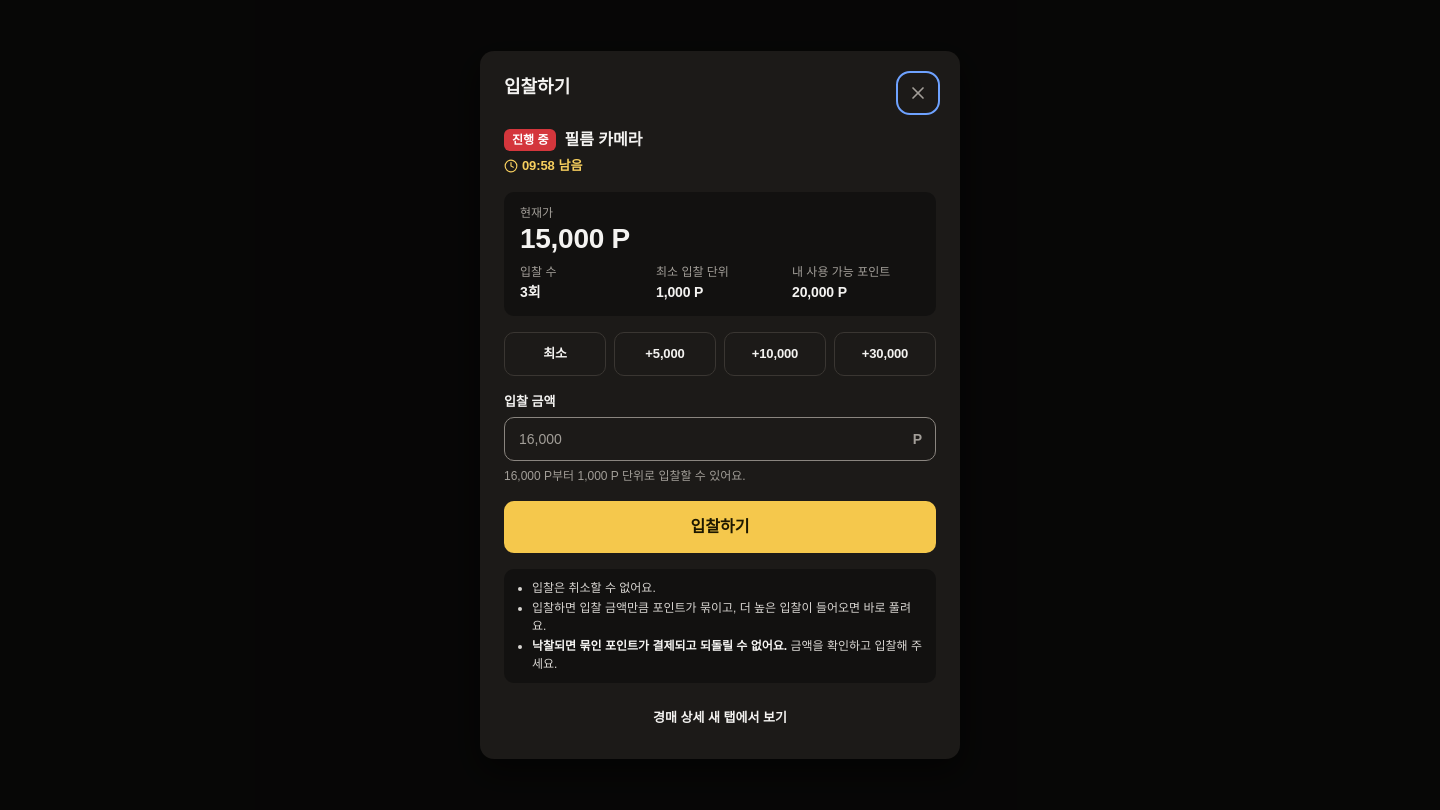
BidDialog › 입찰이 거절되면(그 사이 현재가가 오름) 이유를 보여 준다
The width and height of the screenshot is (1440, 810).
Step 1. Click the button "최소" → (555, 354), box [504, 332, 606, 376]
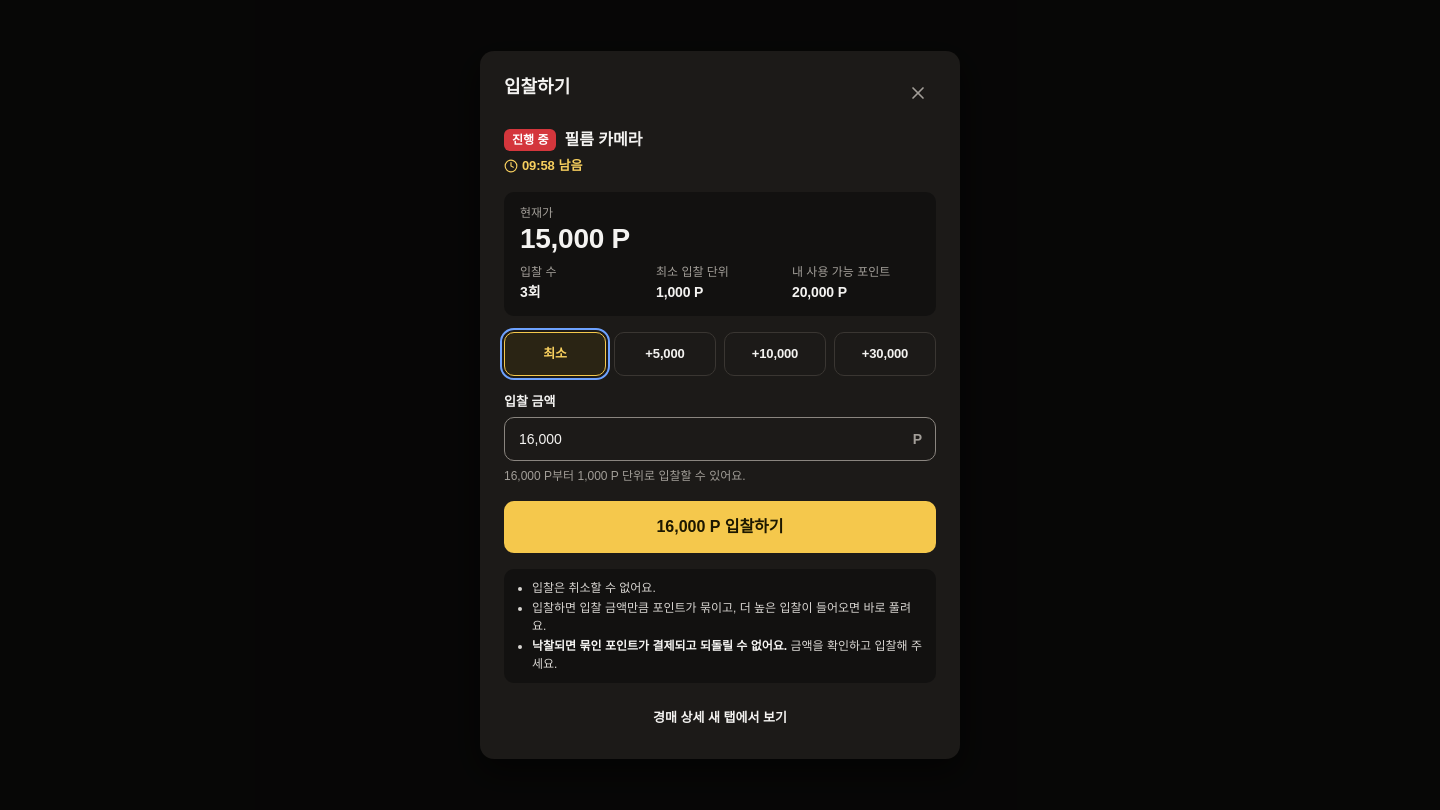
Step 2. Click the button "16,000 P 입찰하기" → (720, 527), box [504, 501, 936, 553]
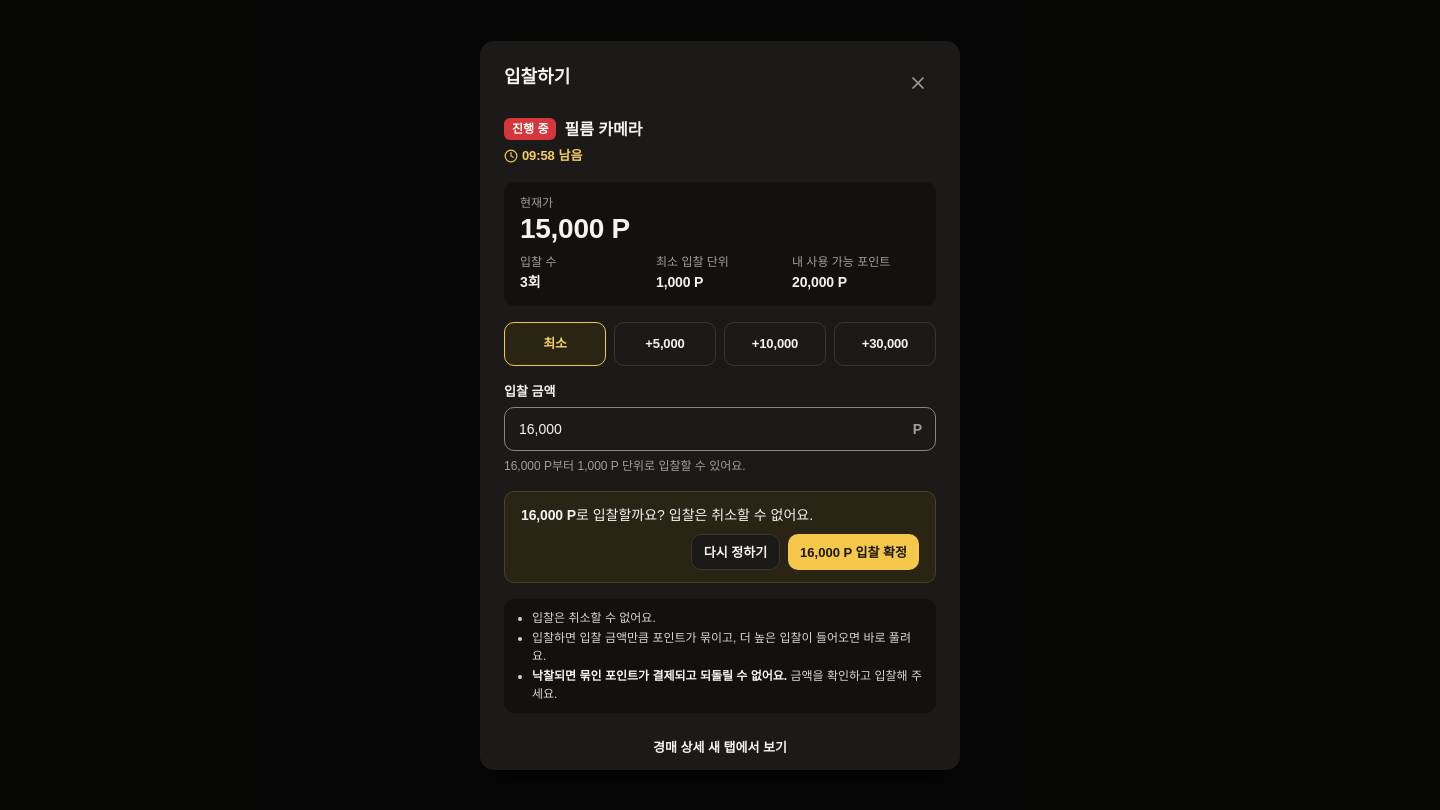
Step 3. Click the button "16,000 P 입찰 확정" → (854, 552), box [788, 534, 919, 570]
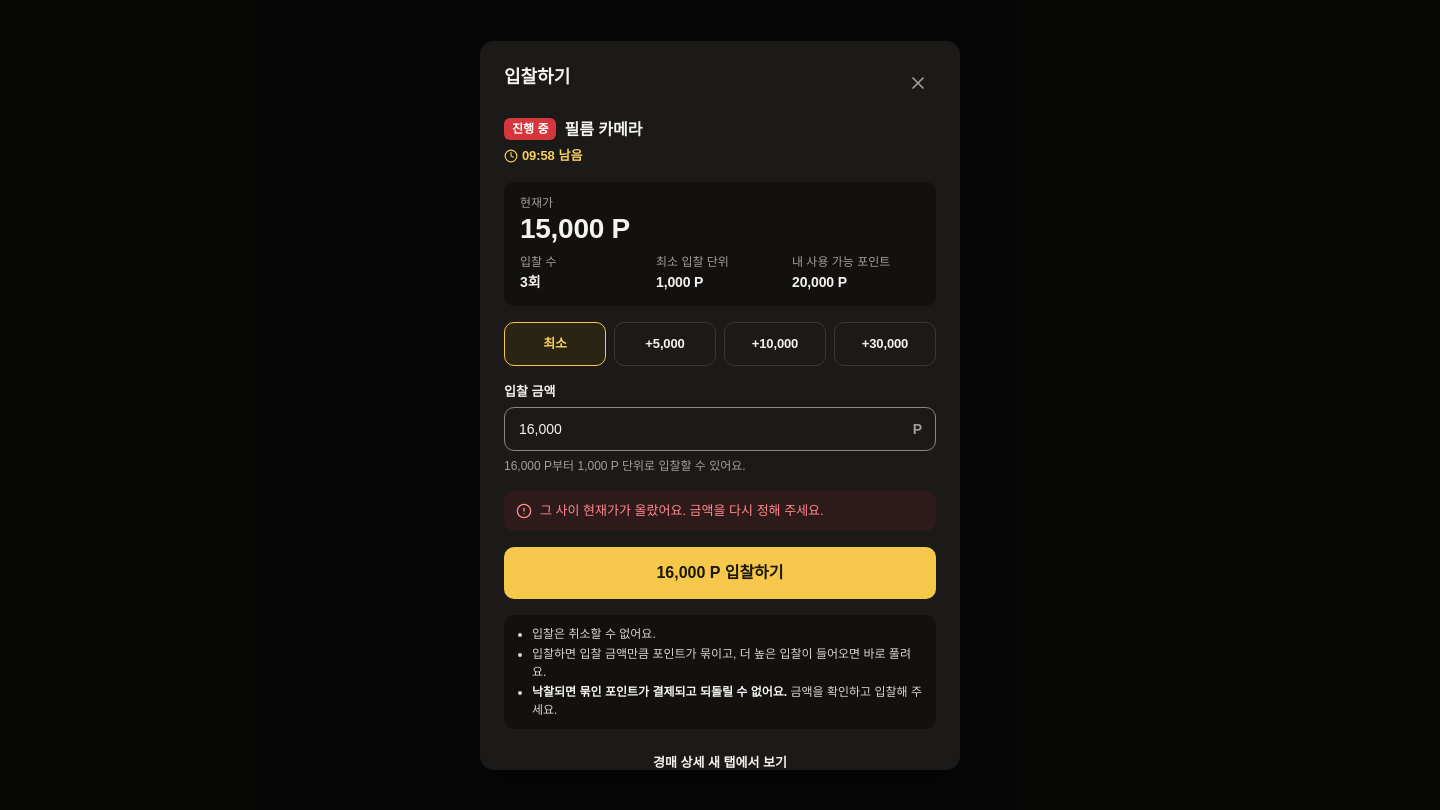
Expected: the text "그 사이 현재가가 올랐어요. 금액을 다시 정해 주세요." is shown, [540, 501, 824, 521]
# 금액을 다시 정하면 지난 입찰의 오류는 지운다.
Step 4. Click the button "+10,000" → (775, 344), box [724, 322, 826, 366]
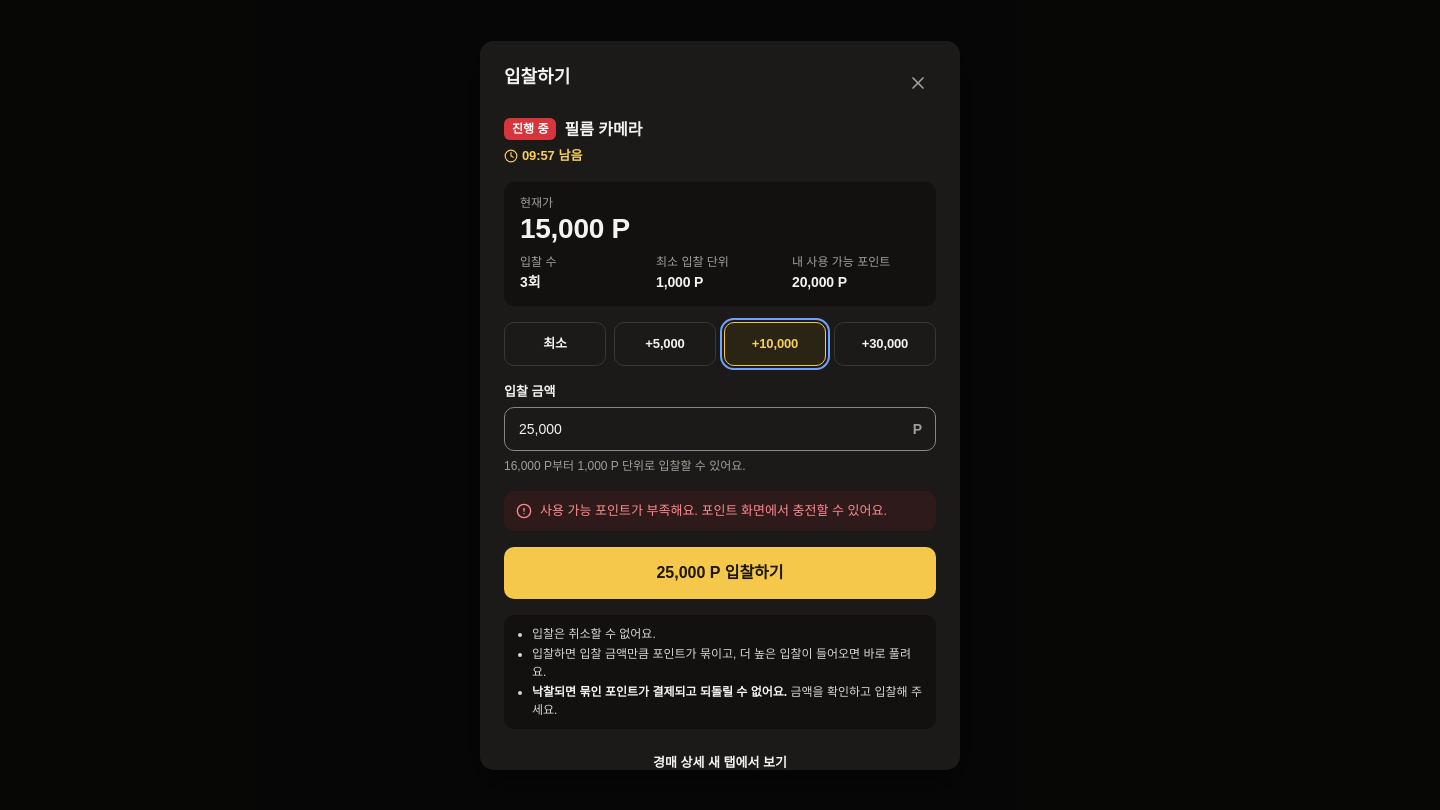
Expected: the text "그 사이 현재가가 올랐어요. 금액을 다시 정해 주세요." is gone
